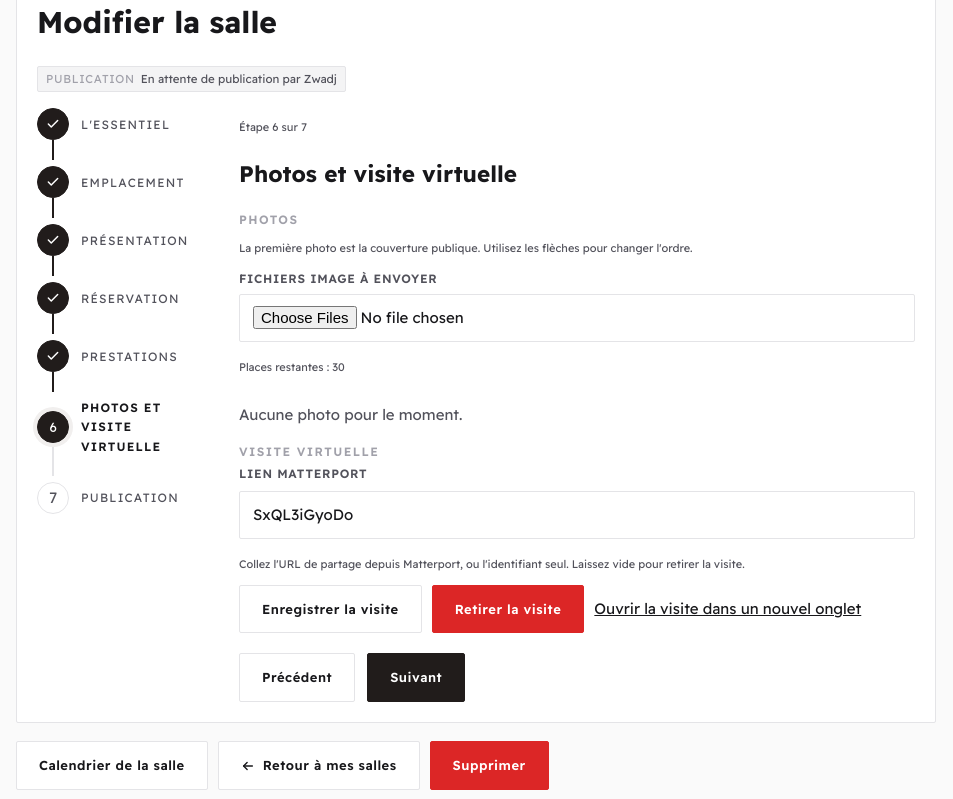
Test: Édition — PATCH par diff, 404 indistinct, équipements › « Retirer la visite » envoie une chaîne vide ; le lien externe est RECONSTRUIT depuis l'ID
(page scrolled)
Step 1. Click the button "Retirer la visite" → (508, 609), box [432,584,584,633]
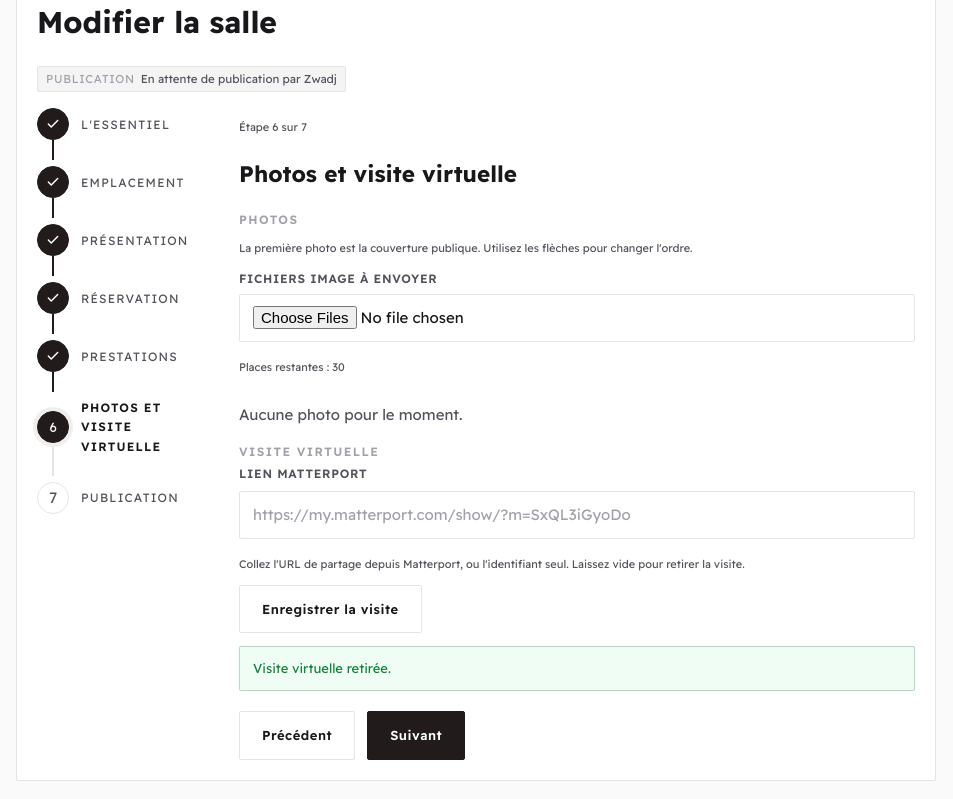
Check: the text "Visite virtuelle retirée." is shown, box [239,646,915,691]
